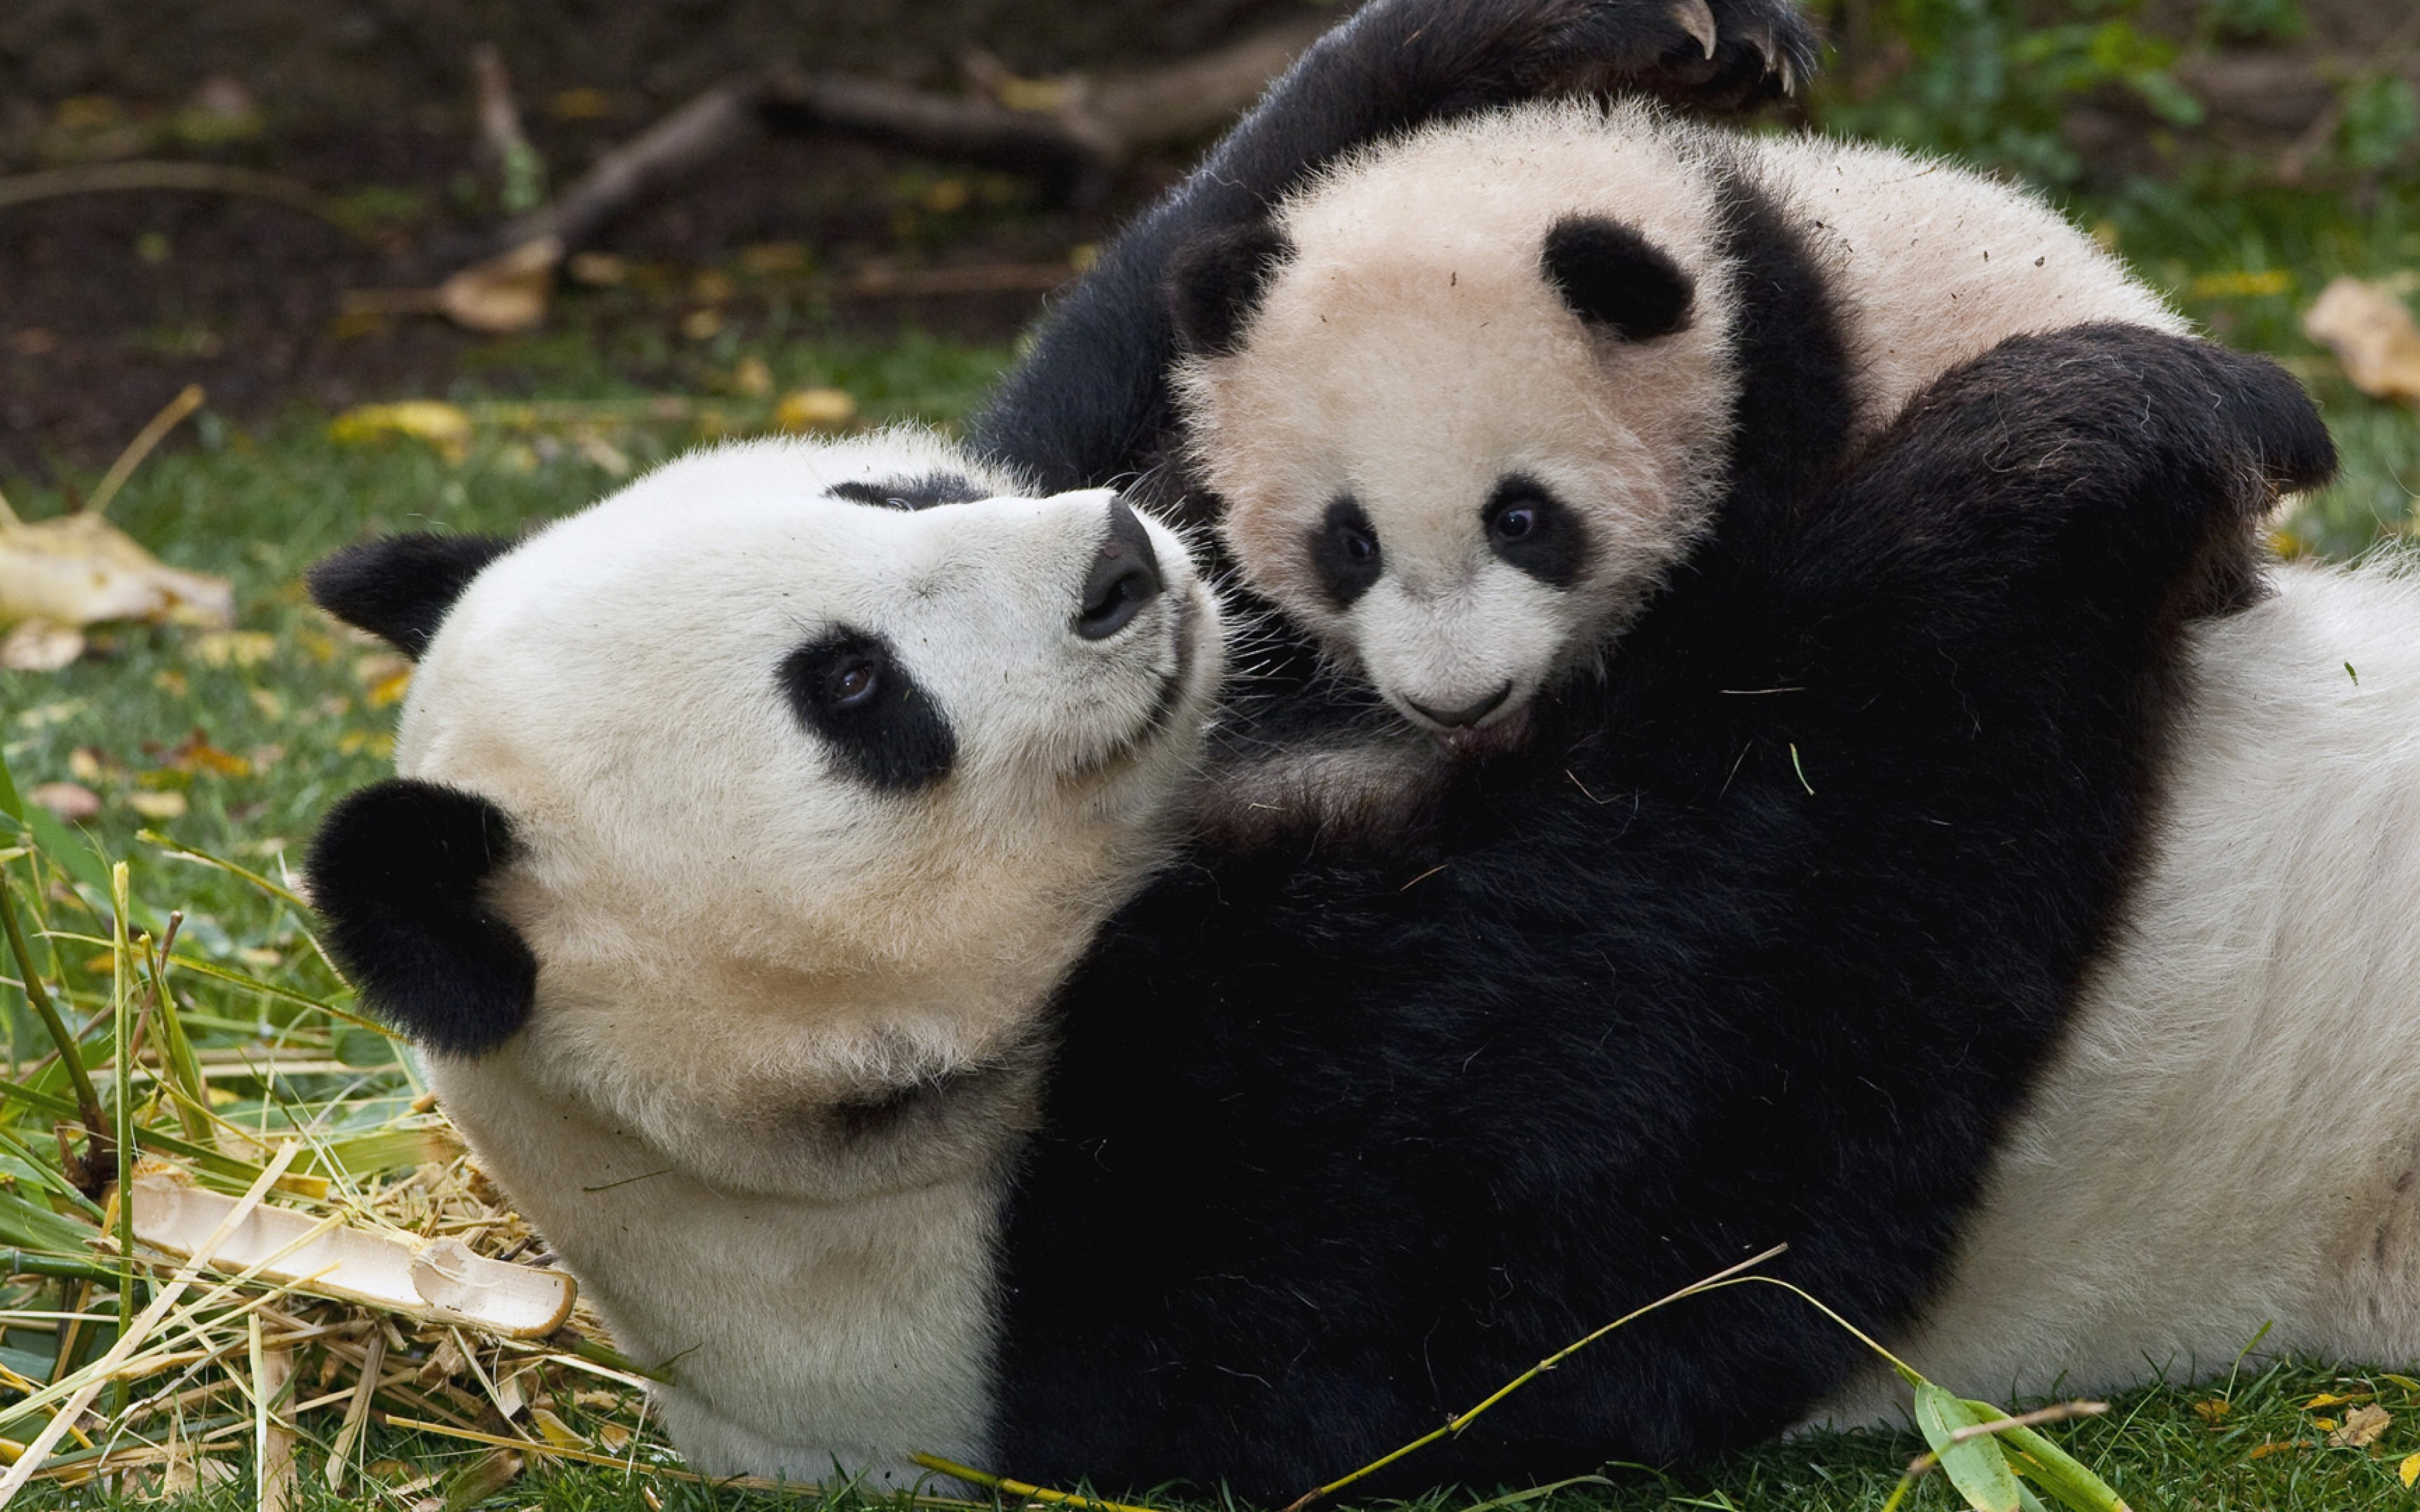panda: (275, 399, 2392, 1465), (1033, 127, 2296, 679)
